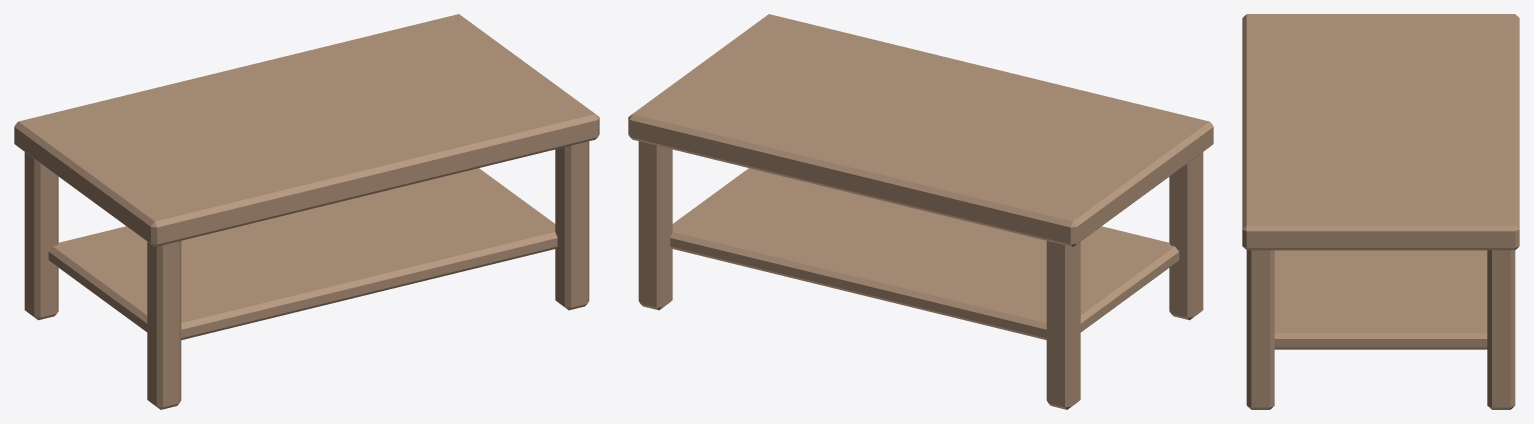
The model's file is SM_Coffee_Table.fbx.
3 renders of one model, left to right at view 1: azimuth 30°, elevation 25°; view 2: azimuth 150°, elevation 25°; view 3: azimuth 270°, elevation 25°, orthographic.
Visible parts, largest first — view 1: Coffee_Table; view 2: Coffee_Table; view 3: Coffee_Table.
Part boxes in pixels (box(x1,y1,x2,y2)): Coffee_Table: box(14, 14, 599, 409); Coffee_Table: box(628, 14, 1213, 409); Coffee_Table: box(1242, 14, 1519, 409).
Size of the model in its own units: 110 by 45 by 60.
